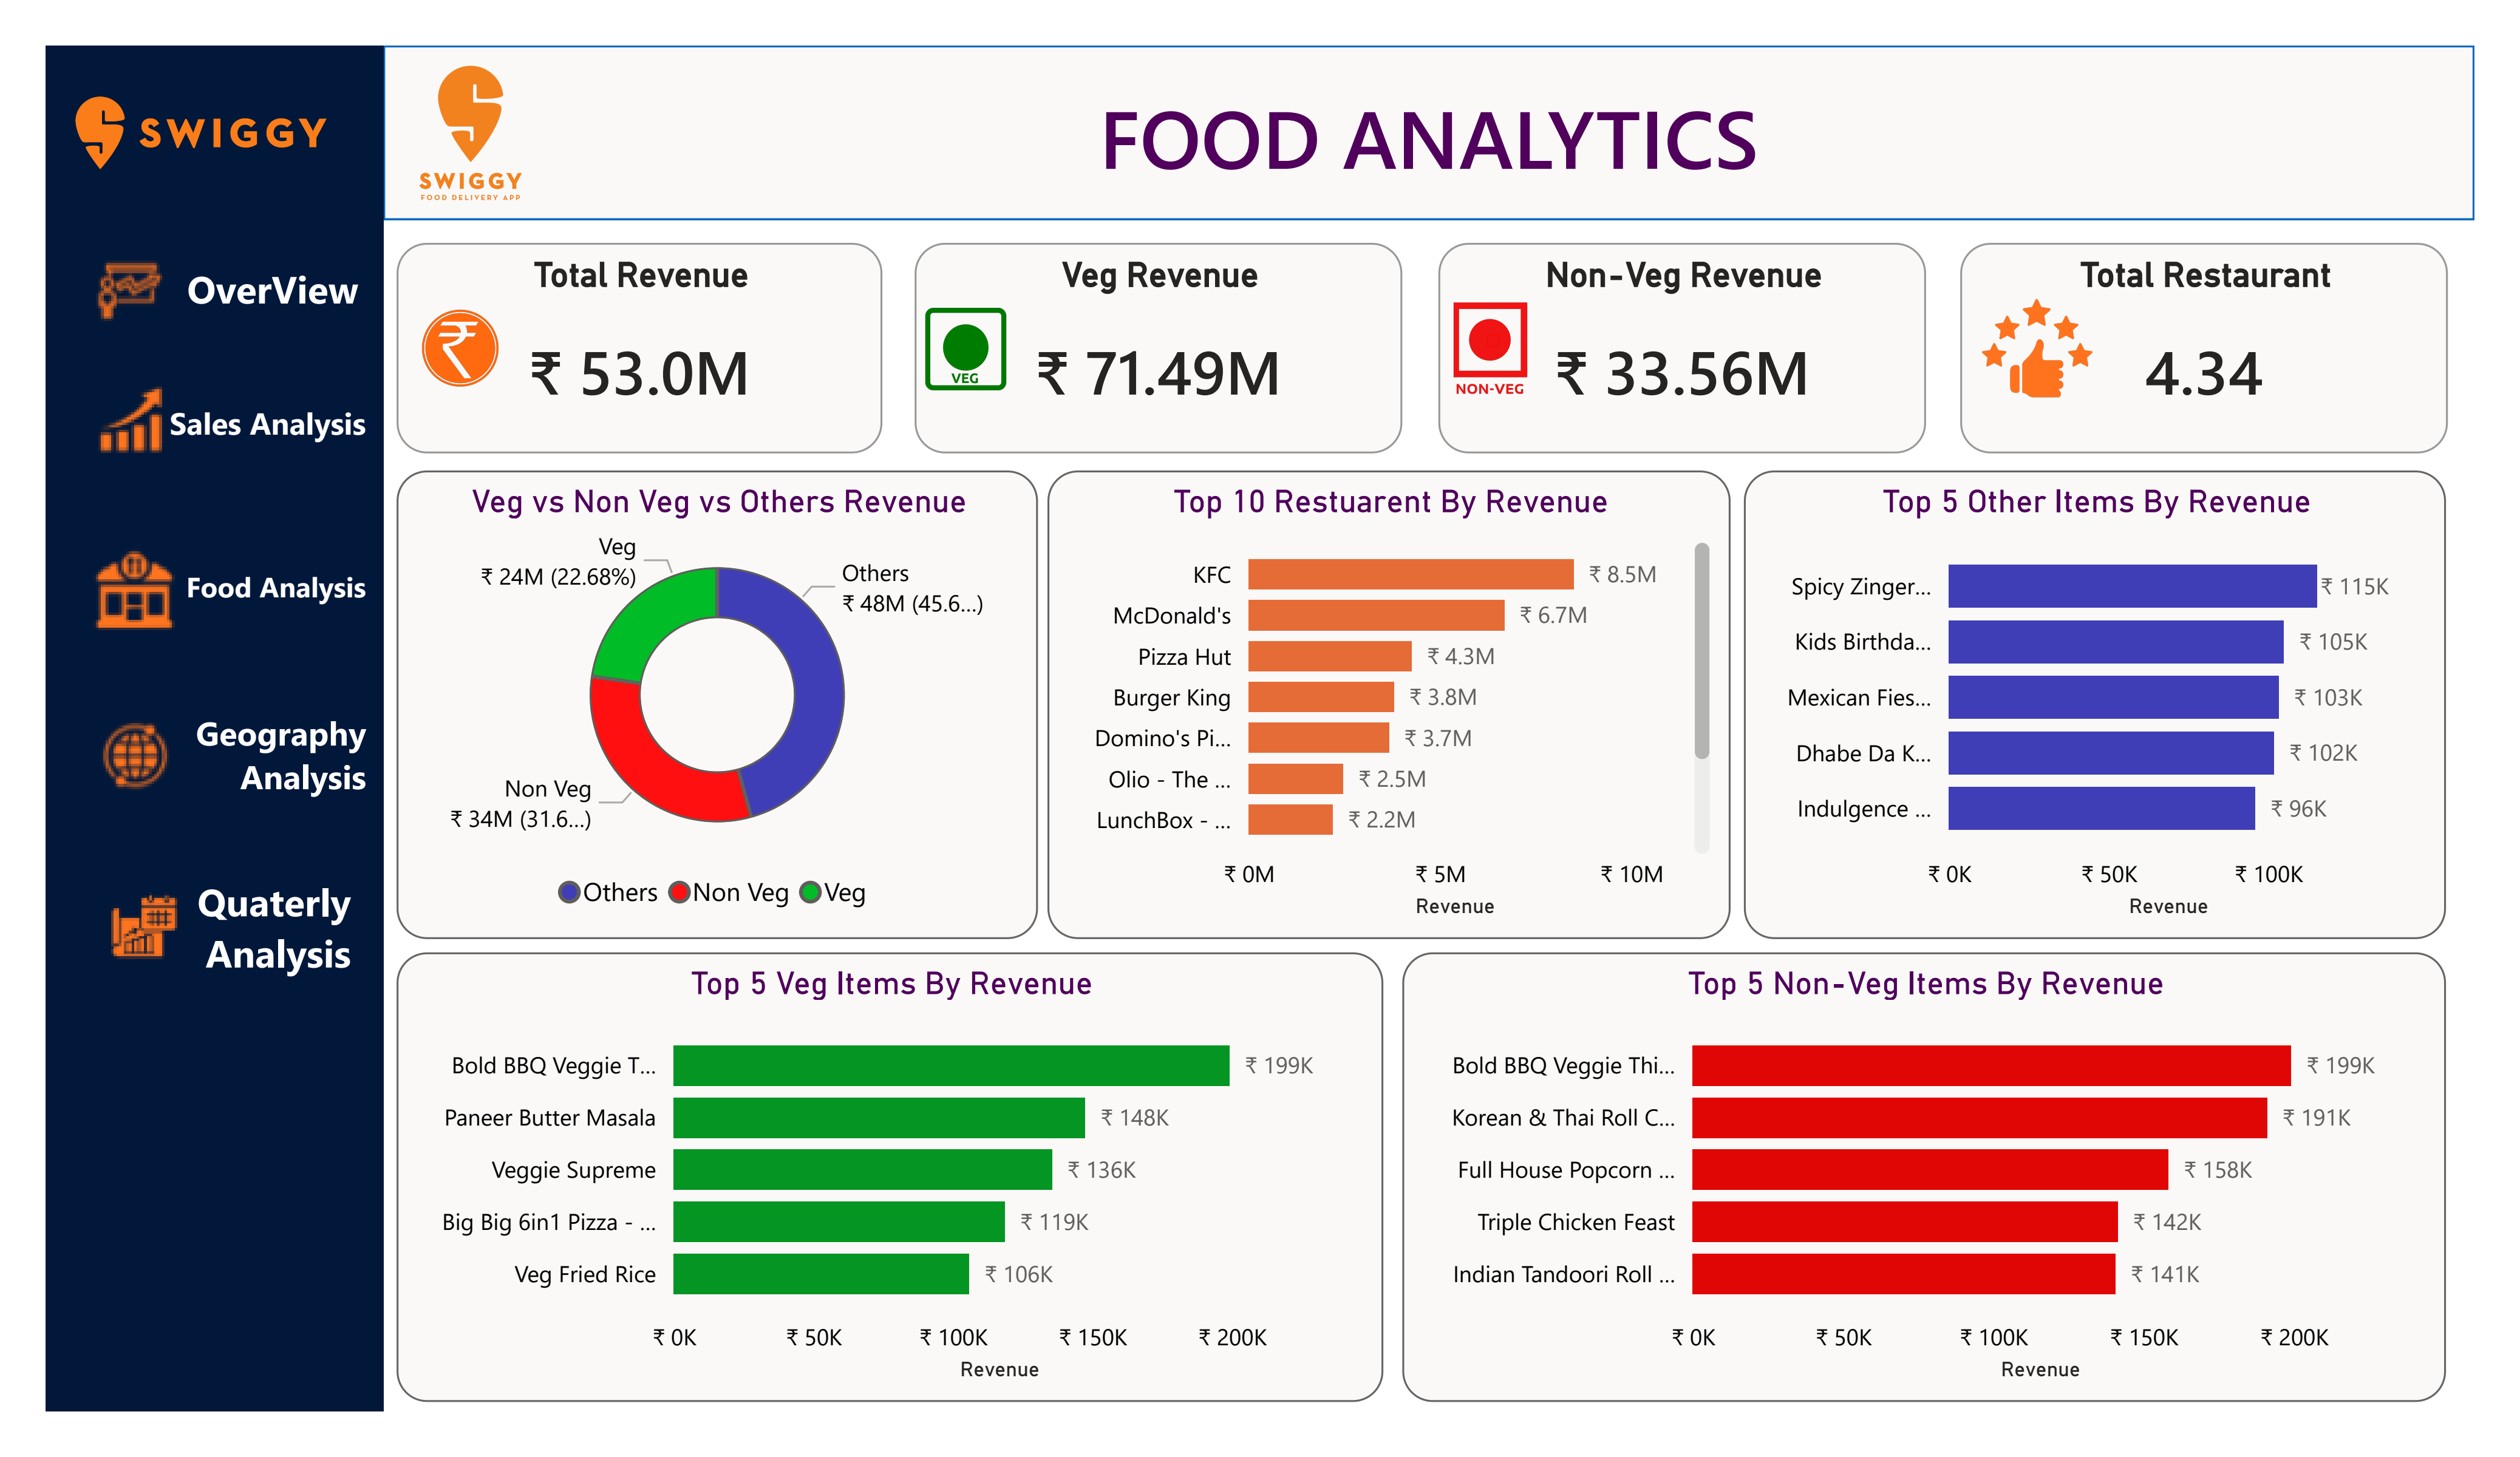

The page's visual inventory and layout, read from the dashboard file:
{"tool":"powerbi","page":{"name":"Food Analysis","canvas":[1280,720],"ordinal":2},"visuals":[{"type":"barChart","title":"Top 10 Restuarent By Revenue","fields":{"Y":["Sum(top 10 restuarent by revenue.Total_Revenue)"],"Category":["top 10 restuarent by revenue.Restaurant Name"]},"box":[528.3,223.7,359.5,247],"z":0},{"type":"shape","box":[178.1,0,1101.9,91.9],"z":1000},{"type":"image","box":[126.2,0,196.2,91.9],"z":2000},{"type":"shape","box":[0,0,178.4,720.4],"z":3000},{"type":"image","box":[16.5,0,131.7,91.9],"z":4000},{"type":"group","id":"g1","title":"Group 1","box":[185.2,104.3,256,111.1],"z":5000},{"type":"cardVisual","title":"Total Revenue","fields":{"Data":["Sum(swiggy_data.Price (INR))"]},"box":[185.2,104.3,256,111.1],"z":6000,"group":"g1"},{"type":"group","id":"g2","title":"Group 2","box":[458.3,104.3,256.6,111.1],"z":6000},{"type":"cardVisual","title":"Total Restaurant","fields":{"Data":["Sum(avg rating.Average_Rating)"]},"box":[1008.6,104.3,256.6,111.1],"z":6000,"group":"g4"},{"type":"cardVisual","title":"Veg Revenue","fields":{"Data":["Sum(total veg revenue.Total_Veg_Revenue)"]},"box":[458.3,104.3,256.6,111.1],"z":7000,"group":"g2"},{"type":"group","id":"g3","title":"Group 3","box":[734.1,104.3,256.6,111.1],"z":7000},{"type":"cardVisual","title":"Non-Veg Revenue","fields":{"Data":["Sum(total non veg revenue.Total_NonVeg_Revenue)"]},"box":[734.1,104.3,256.6,111.1],"z":8000,"group":"g3"},{"type":"group","id":"g4","title":"Group 4","box":[1008.6,104.3,256.6,111.1],"z":8000},{"type":"donutChart","title":"Veg vs Non Veg vs Others Revenue","fields":{"Y":["Sum(veg vs non veg vs others (2).Total_Revenue)"],"Category":["veg vs non veg vs others (2).Food_Type"]},"box":[185.2,223.7,337.6,247],"z":9000},{"type":"barChart","title":"Top 5 Veg Items By Revenue","fields":{"Category":["top 5 veg.Dish Name"],"Y":["Sum(top 5 veg.Total_Revenue)"]},"box":[185.2,477.5,520.1,237.4],"z":10000},{"type":"barChart","title":"Top 5 Non-Veg Items By Revenue","fields":{"Category":["top 5 non veg.Dish Name"],"Y":["Sum(top 5 non veg.Total_Revenue)"]},"box":[714.9,477.5,550.3,237.4],"z":11000},{"type":"barChart","title":"Top 5 Other Items By Revenue","fields":{"Category":["top 5 other food.Dish Name"],"Y":["Sum(top 5 other food.Total_Revenue)"]},"box":[894.7,223.7,370.5,247],"z":12000},{"type":"image","box":[734.1,104.3,54.9,111.1],"z":13000},{"type":"image","box":[458.3,104.3,53.5,111.1],"z":14000},{"type":"image","box":[185.2,104.3,67.2,111.1],"z":15000},{"type":"image","box":[1008.6,104.3,81,111.1],"z":16000},{"type":"textbox","box":[178.1,13.7,1101.9,91.9],"z":17000},{"type":"actionButton","box":[0,85.1,168.8,89.2],"z":17001},{"type":"actionButton","box":[4.1,152.3,168.8,89.2],"z":17002},{"type":"actionButton","box":[4.1,241.5,168.8,89.2],"z":17003},{"type":"actionButton","box":[3.7,419.4,168.8,89.3],"z":17004},{"type":"actionButton","box":[7.3,330.2,168.8,89.3],"z":17005}]}

Visuals, with their boxes on the page's 1280x720 design canvas (x1, y1, x2, y2). These are canvas units, not pixel positions in the 2520x1457 screenshot, which may show the page scaled, cropped or inside an application window:
"Top 10 Restuarent By Revenue" barChart: bbox=[528, 224, 888, 471]
shape: bbox=[178, 0, 1280, 92]
image: bbox=[126, 0, 322, 92]
shape: bbox=[0, 0, 178, 720]
image: bbox=[16, 0, 148, 92]
"Group 1" group: bbox=[185, 104, 441, 215]
"Total Revenue" cardVisual: bbox=[185, 104, 441, 215]
"Group 2" group: bbox=[458, 104, 715, 215]
"Total Restaurant" cardVisual: bbox=[1009, 104, 1265, 215]
"Veg Revenue" cardVisual: bbox=[458, 104, 715, 215]
"Group 3" group: bbox=[734, 104, 991, 215]
"Non-Veg Revenue" cardVisual: bbox=[734, 104, 991, 215]
"Group 4" group: bbox=[1009, 104, 1265, 215]
"Veg vs Non Veg vs Others Revenue" donutChart: bbox=[185, 224, 523, 471]
"Top 5 Veg Items By Revenue" barChart: bbox=[185, 478, 705, 715]
"Top 5 Non-Veg Items By Revenue" barChart: bbox=[715, 478, 1265, 715]
"Top 5 Other Items By Revenue" barChart: bbox=[895, 224, 1265, 471]
image: bbox=[734, 104, 789, 215]
image: bbox=[458, 104, 512, 215]
image: bbox=[185, 104, 252, 215]
image: bbox=[1009, 104, 1090, 215]
textbox: bbox=[178, 14, 1280, 106]
actionButton: bbox=[0, 85, 169, 174]
actionButton: bbox=[4, 152, 173, 242]
actionButton: bbox=[4, 242, 173, 331]
actionButton: bbox=[4, 419, 172, 509]
actionButton: bbox=[7, 330, 176, 420]
